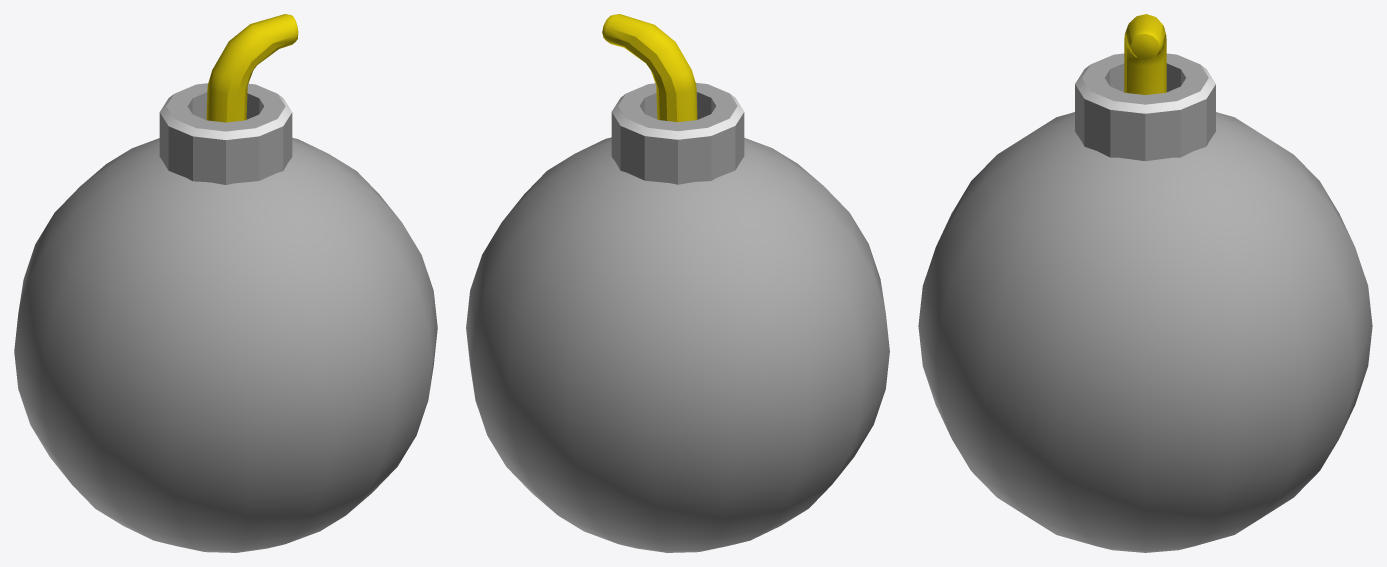
Rendered from Bomb.fbx.
3 renders of one model, left to right at view 1: azimuth 30°, elevation 25°; view 2: azimuth 150°, elevation 25°; view 3: azimuth 270°, elevation 25°, orthographic. The views are drawn at different scales.
Parts seen in each view (by area): view 1: Bomb; view 2: Bomb; view 3: Bomb.
Part boxes in pixels (x1,y1,x2,y2): Bomb: (14,14,437,552); Bomb: (466,14,889,552); Bomb: (918,14,1372,552).
Bounding box in the file's own units: 3.62 × 4.7 × 3.62.
